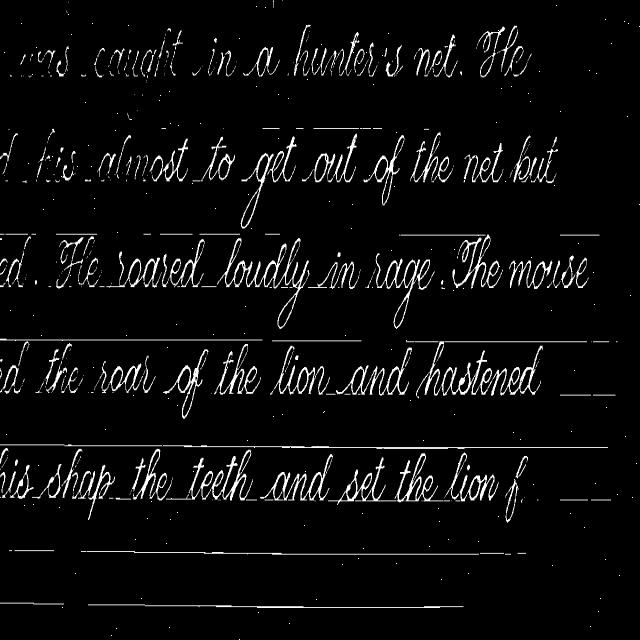noise: (6, 541, 528, 558), (0, 439, 608, 451), (86, 601, 464, 610), (404, 340, 617, 349), (0, 337, 264, 341), (143, 232, 242, 237), (56, 230, 116, 238), (296, 127, 386, 132), (399, 231, 489, 236), (270, 340, 363, 344), (0, 602, 68, 607), (560, 391, 616, 396), (560, 496, 611, 501), (0, 231, 34, 237), (558, 233, 600, 237), (262, 126, 280, 131), (260, 233, 280, 236), (160, 126, 169, 132), (421, 128, 430, 131)
not-noise: (20, 132, 558, 228), (0, 250, 591, 327), (0, 448, 502, 518), (156, 346, 543, 406), (80, 26, 464, 80), (0, 348, 156, 394), (476, 25, 531, 76), (476, 32, 531, 77), (215, 343, 259, 394), (56, 236, 98, 287), (453, 235, 492, 288), (0, 233, 32, 287), (20, 46, 70, 76), (0, 341, 28, 392), (506, 456, 527, 522), (220, 238, 241, 284), (36, 129, 54, 181), (276, 346, 294, 393), (270, 244, 286, 288), (2, 133, 18, 176), (286, 238, 300, 284), (193, 239, 204, 274), (0, 447, 8, 474), (62, 343, 71, 359), (54, 380, 56, 388)
